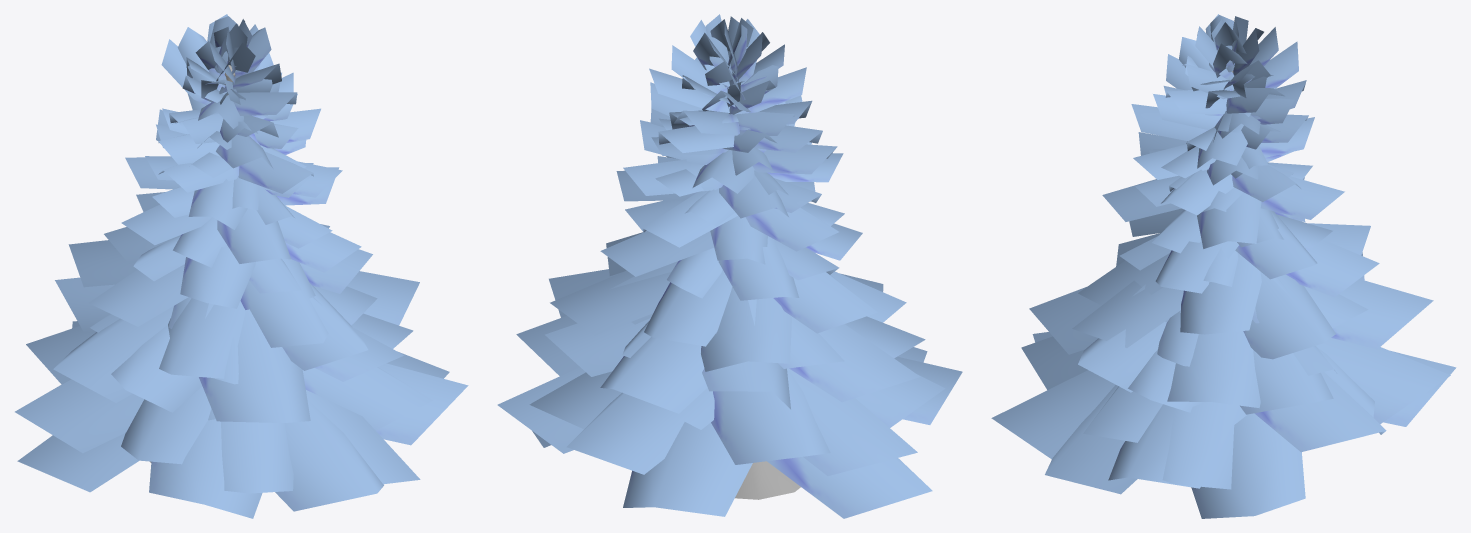
Rendered from Yaro_TallPine_Texture_6.fbx.
3 renders of one model, left to right at view 1: azimuth 30°, elevation 25°; view 2: azimuth 150°, elevation 25°; view 3: azimuth 270°, elevation 25°, orthographic. The views are drawn at different scales.
Parts seen in each view (by area): view 1: FatLeaves_Test2_pasted__polySurface302; view 2: FatLeaves_Test2_pasted__polySurface302, BaseTree; view 3: FatLeaves_Test2_pasted__polySurface302.
Part boxes in pixels (x1,y1,x2,y2): FatLeaves_Test2_pasted__polySurface302: (15, 14, 468, 518); FatLeaves_Test2_pasted__polySurface302: (497, 14, 962, 518); BaseTree: (735, 461, 800, 499); FatLeaves_Test2_pasted__polySurface302: (991, 14, 1456, 518).
Bounding box in the file's own units: 227 × 242 × 233.
